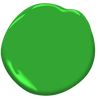green: (35, 17, 65, 66)
